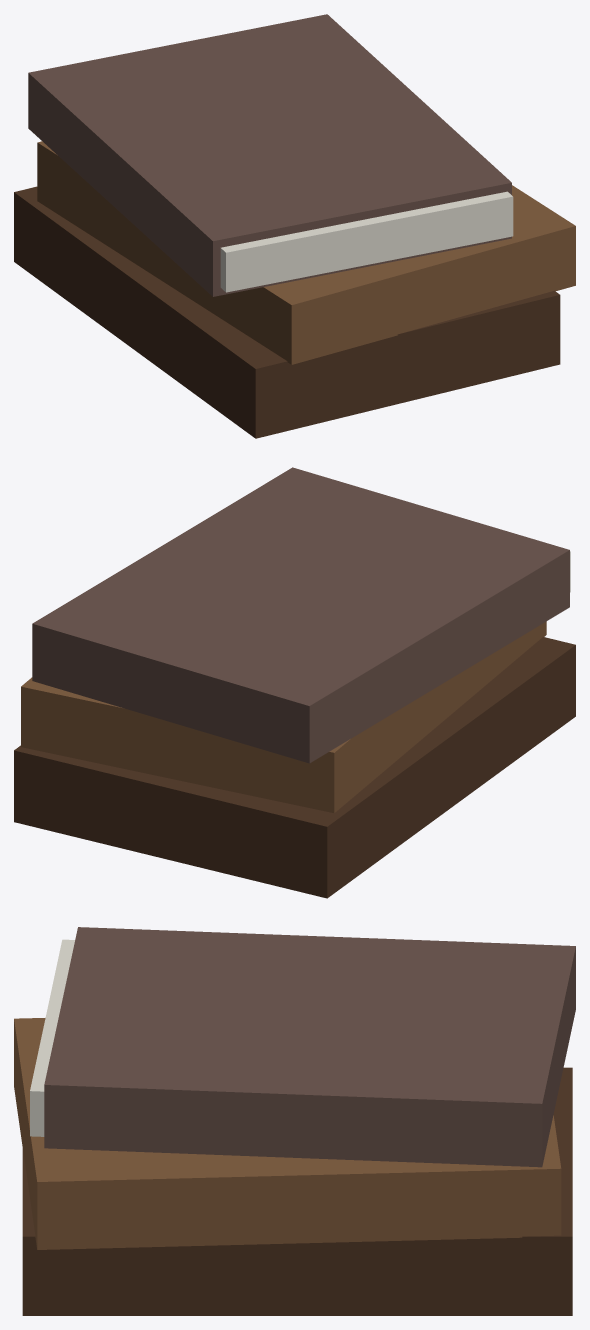
The model's file is PRP_P0_Books_Stack_A.obj.
The picture shows the model from 3 angles, top to bottom: view 1: azimuth 30°, elevation 25°; view 2: azimuth 150°, elevation 25°; view 3: azimuth 270°, elevation 25°; orthographic projection. The views are drawn at different scales.
Visible parts, largest first — view 1: book_3, book_1, book_2, pages_edge; view 2: book_3, book_1, book_2; view 3: book_3, book_2, book_1, pages_edge.
Part boxes in pixels (bbox=[...]): book_3: bbox=[28, 14, 511, 296]; book_1: bbox=[14, 186, 560, 438]; book_2: bbox=[37, 141, 575, 364]; pages_edge: bbox=[220, 191, 513, 292]; book_3: bbox=[32, 467, 569, 763]; book_1: bbox=[14, 637, 575, 898]; book_2: bbox=[21, 621, 546, 813]; book_3: bbox=[44, 927, 575, 1167]; book_2: bbox=[14, 1018, 561, 1249]; book_1: bbox=[22, 1067, 572, 1315]; pages_edge: bbox=[30, 939, 74, 1136].
Size of the model in its own units: 0.1813 by 0.0925 by 0.2248.
